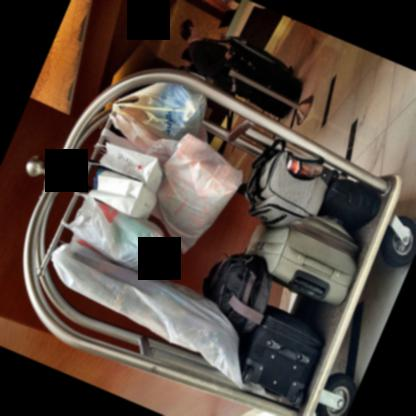backpack: (241, 146, 335, 228), (202, 251, 272, 333)
handbag: (61, 190, 170, 277)
suitcase: (244, 214, 360, 304), (236, 303, 325, 408), (244, 136, 339, 225), (247, 60, 303, 120)
